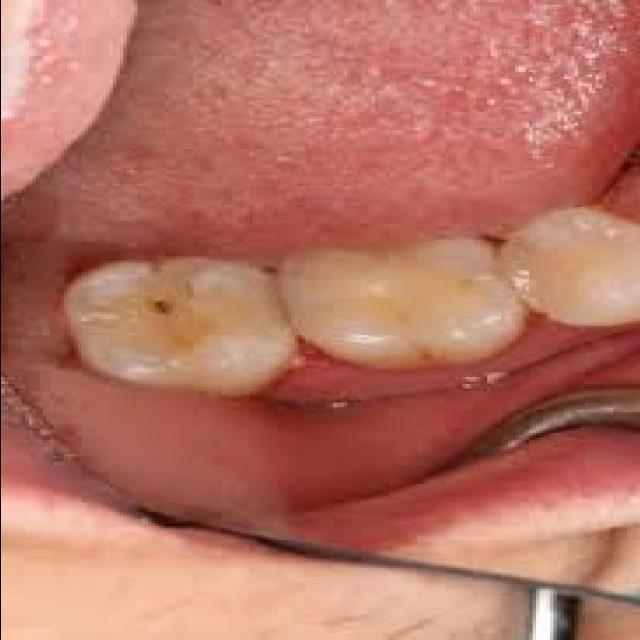decay: (141, 293, 177, 319), (416, 354, 442, 366)
